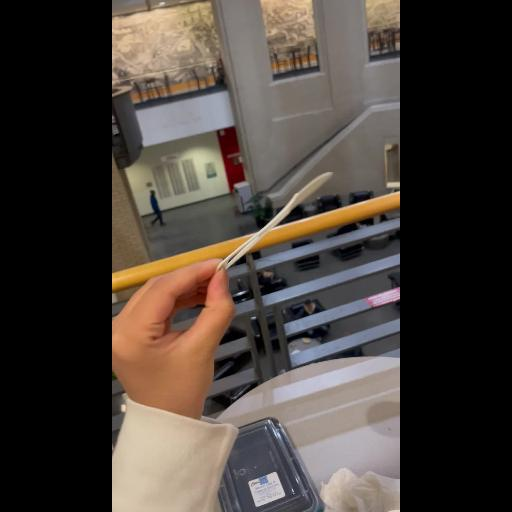utensil: (202, 166, 348, 296)
